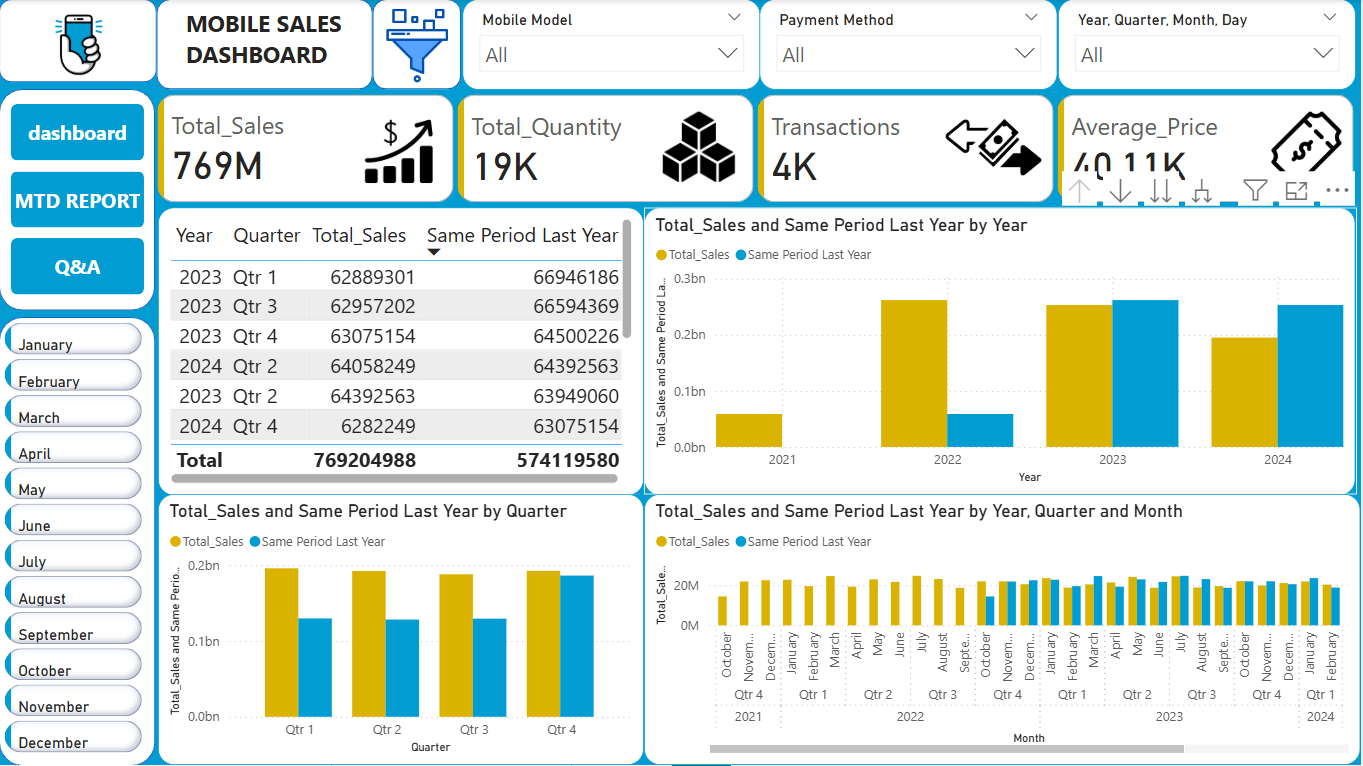

The dashboard page shown, as its layout file describes it:
{"tool":"powerbi","page":{"name":"Same Period Last Year","canvas":[1280,720],"ordinal":2},"visuals":[{"type":"shape","box":[0,0,148.3,78.3],"z":0},{"type":"image","box":[18.3,0,113.3,85],"z":1000},{"type":"shape","box":[0,85,146.7,208.3],"z":2000},{"type":"cardVisual","fields":{"Data":["Mobile Sales Data.Total_Sales","Mobile Sales Data.Total_Quantity","Mobile Sales Data.Transactions","Mobile Sales Data.Average_Price"]},"box":[143.3,85,1136.7,111.7],"z":3000},{"type":"slicer","fields":{"Values":["Mobile Sales Data.Mobile Model"]},"box":[435,0,280,85],"z":4000},{"type":"slicer","fields":{"Values":["Mobile Sales Data.Payment Method"]},"box":[715,0,280,85],"z":5000},{"type":"slicer","fields":{"Values":["Custum_calender.Date.Variation.Date Hierarchy.Year","Custum_calender.Date.Variation.Date Hierarchy.Quarter","Custum_calender.Date.Variation.Date Hierarchy.Month","Custum_calender.Date.Variation.Date Hierarchy.Day"]},"box":[995,0,280,85],"z":6000},{"type":"shape","box":[351.7,0,83.3,85],"z":7000},{"type":"image","box":[345,3.3,95,81.7],"z":8000},{"type":"shape","box":[148.3,0,203.3,85],"z":9000},{"type":"textbox","box":[170,3.3,163.3,76.7],"z":10000},{"type":"shape","box":[0,298.5,146.9,422],"z":11000},{"type":"advancedSlicerVisual","fields":{"Values":["Custum_calender.Date.Variation.Date Hierarchy.Month"]},"box":[0,298.5,139.1,422],"z":12000},{"type":"tableEx","fields":{"Values":["Custum_calender.Date.Variation.Date Hierarchy.Year","Custum_calender.Date.Variation.Date Hierarchy.Quarter","Mobile Sales Data.Total_Sales","Mobile Sales Data.Same Period Last Year"]},"box":[150,195.4,456.4,270.4],"z":13000},{"type":"clusteredColumnChart","fields":{"Category":["Custum_calender.Date.Variation.Date Hierarchy.Year","Custum_calender.Date.Variation.Date Hierarchy.Quarter"],"Y":["Mobile Sales Data.Total_Sales","Mobile Sales Data.Same Period Last Year"]},"box":[606.4,195.4,669,270.4],"z":14000},{"type":"clusteredColumnChart","fields":{"Y":["Mobile Sales Data.Total_Sales","Mobile Sales Data.Same Period Last Year"],"Category":["Custum_calender.Date.Variation.Date Hierarchy.Year","Custum_calender.Date.Variation.Date Hierarchy.Quarter","Custum_calender.Date.Variation.Date Hierarchy.Month","Custum_calender.Date.Variation.Date Hierarchy.Day"]},"box":[606.4,465.8,673.6,254.8],"z":15000},{"type":"clusteredColumnChart","fields":{"Category":["Custum_calender.Date.Variation.Date Hierarchy.Year","Custum_calender.Date.Variation.Date Hierarchy.Quarter"],"Y":["Mobile Sales Data.Total_Sales","Mobile Sales Data.Same Period Last Year"]},"box":[150,465.8,456.4,254.8],"z":16000},{"type":"pageNavigator","box":[10.9,98.5,125,179.7],"z":17000}]}

Visuals, with their boxes on the page's 1280x720 design canvas (x1, y1, x2, y2). These are canvas units, not pixel positions in the 1363x766 screenshot, which may show the page scaled, cropped or inside an application window:
shape: [0, 0, 148, 78]
image: [18, 0, 132, 85]
shape: [0, 85, 147, 293]
cardVisual - Mobile Sales Data.Total_Sales x Mobile Sales Data.Total_Quantity: [143, 85, 1280, 197]
slicer - Mobile Sales Data.Mobile Model: [435, 0, 715, 85]
slicer - Mobile Sales Data.Payment Method: [715, 0, 995, 85]
slicer - Custum_calender.Date.Variation.Date Hierarchy.Year x Custum_calender.Date.Variation.Date Hierarchy.Quarter: [995, 0, 1275, 85]
shape: [352, 0, 435, 85]
image: [345, 3, 440, 85]
shape: [148, 0, 352, 85]
textbox: [170, 3, 333, 80]
shape: [0, 298, 147, 720]
advancedSlicerVisual - Custum_calender.Date.Variation.Date Hierarchy.Month: [0, 298, 139, 720]
tableEx - Custum_calender.Date.Variation.Date Hierarchy.Year x Custum_calender.Date.Variation.Date Hierarchy.Quarter: [150, 195, 606, 466]
clusteredColumnChart - Custum_calender.Date.Variation.Date Hierarchy.Year x Custum_calender.Date.Variation.Date Hierarchy.Quarter: [606, 195, 1275, 466]
clusteredColumnChart - Mobile Sales Data.Total_Sales x Mobile Sales Data.Same Period Last Year: [606, 466, 1280, 721]
clusteredColumnChart - Custum_calender.Date.Variation.Date Hierarchy.Year x Custum_calender.Date.Variation.Date Hierarchy.Quarter: [150, 466, 606, 721]
pageNavigator: [11, 98, 136, 278]
